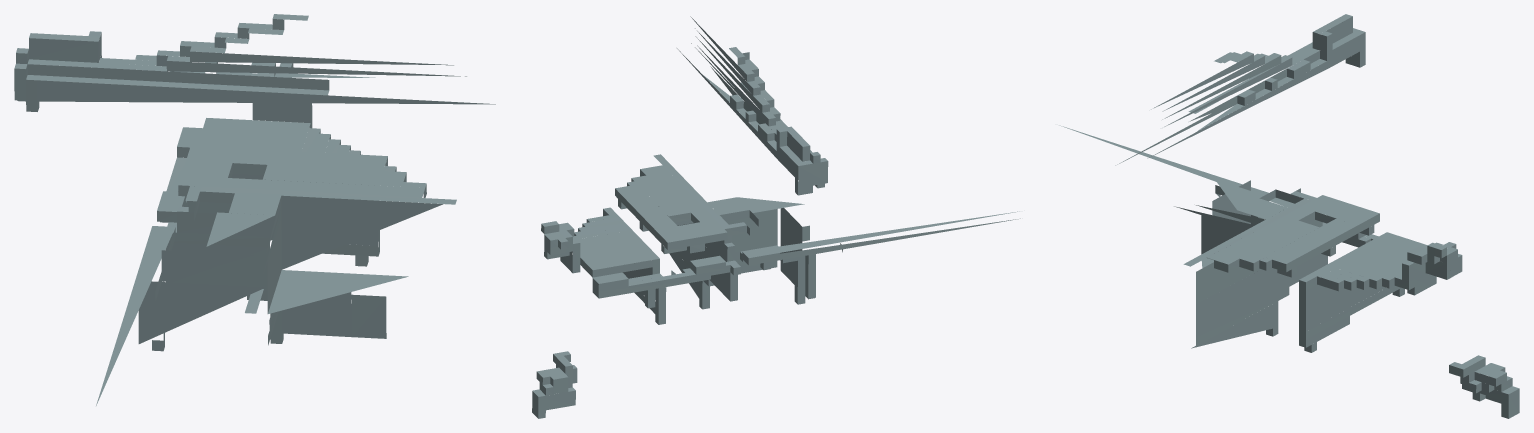
3 views of the same model, side by side, from view 1: azimuth 30°, elevation 25°; view 2: azimuth 150°, elevation 25°; view 3: azimuth 270°, elevation 25° (orthographic). The views are drawn at different scales.
Parts seen in each view (by area): view 1: measured-industrial; view 2: measured-industrial; view 3: measured-industrial.
Part boxes in pixels (x1=…): measured-industrial: x1=14, y1=14, x2=495, y2=405; measured-industrial: x1=532, y1=16, x2=1020, y2=418; measured-industrial: x1=1059, y1=14, x2=1519, y2=418.
Bounding box in the file's own units: 66.64 × 58.49 × 77.28.
